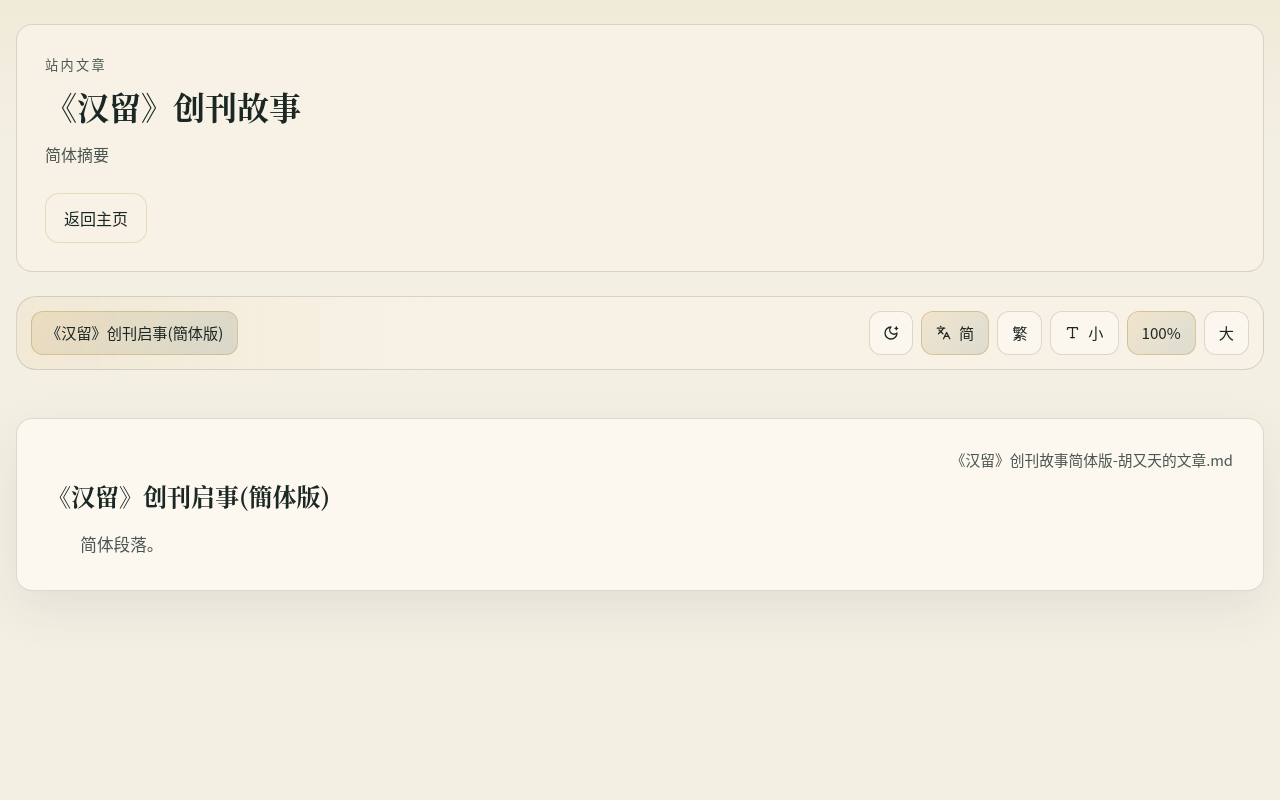
Scenario: StandaloneStoryView › switches rendered story content when changing script preference
Expected: the heading "《汉留》创刊故事" is shown, [45,83,301,129]
Expected: the text "简体段落。" is shown, [80,532,163,556]
Click the button "繁" at (1020, 333), box [997,311,1042,355]
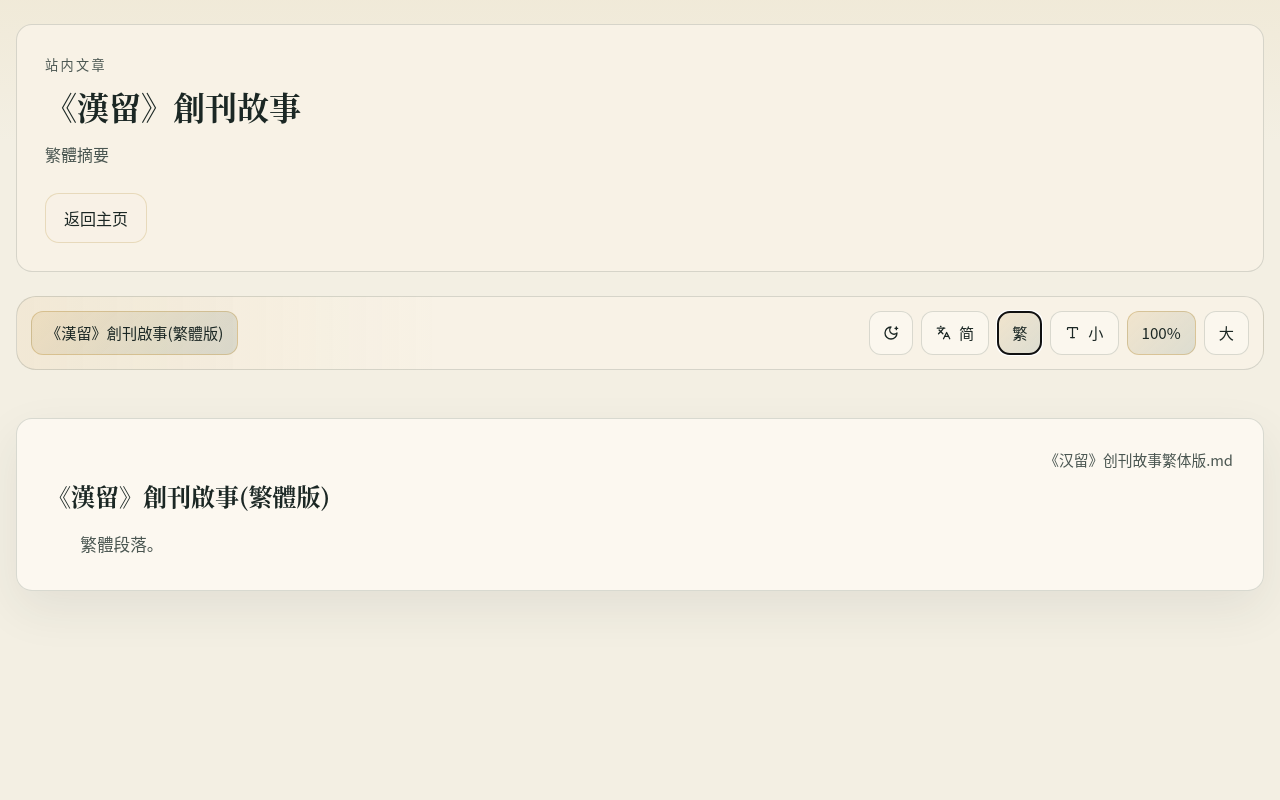
Result: the heading "《漢留》創刊故事" is shown at [45,83,301,129]
Result: the text "繁體段落。" is shown at [80,532,163,556]
